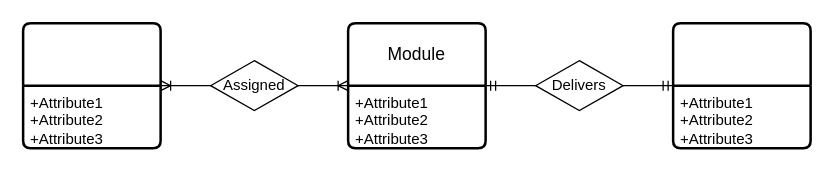
This 833x170 diagram has some shape labels left out. Each missing label, with the box of its shape:
Lecturer: (671, 21, 811, 149)
Student: (21, 21, 161, 149)
